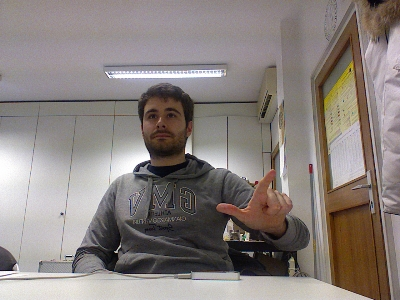枪: (214, 168, 293, 232)
